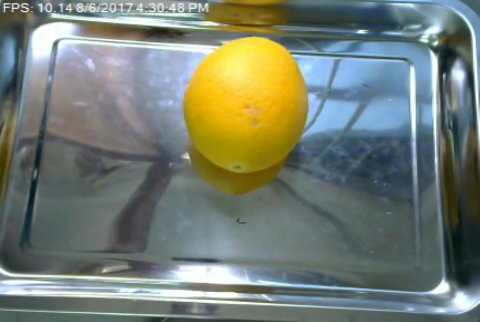Orange: (184, 37, 310, 172)
